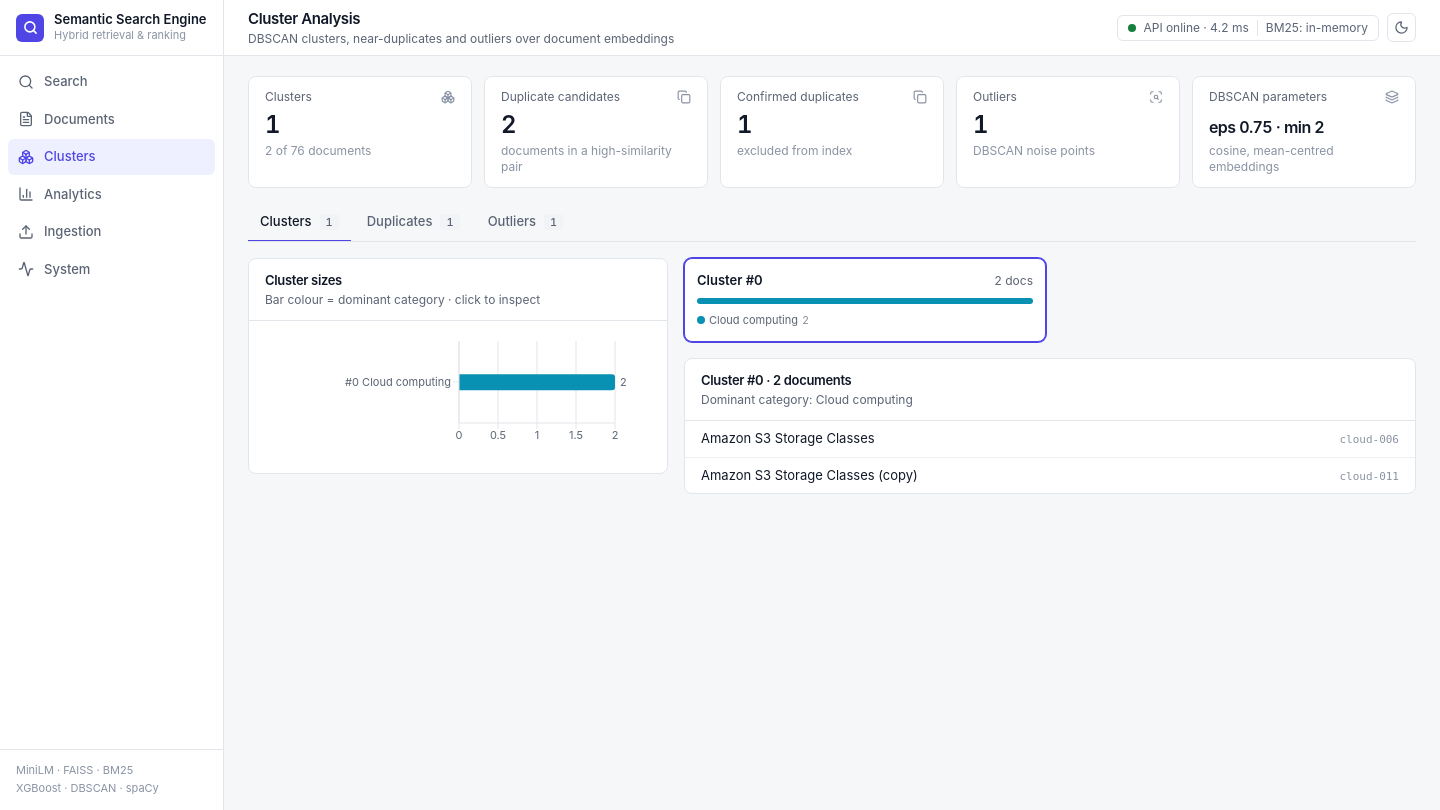
Test: Navigation and pages › shows confirmed duplicates on the Clusters page
Click the tab "Duplicates 1" at (413, 223), box [355,204,472,242]
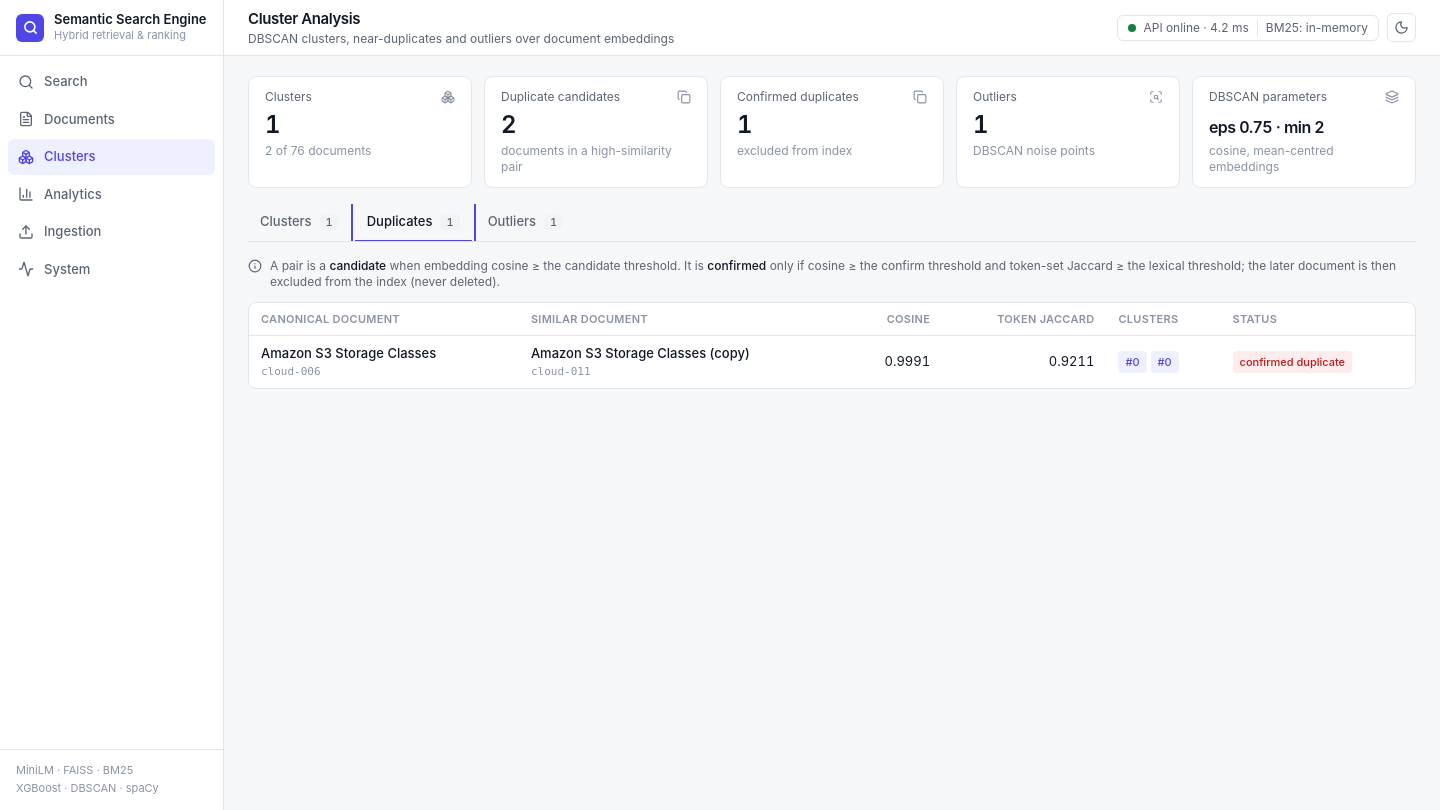
Result: the text "confirmed duplicate" is shown at [1232,351,1352,373]
Result: the text "0.9991" is shown at [848,336,942,388]
